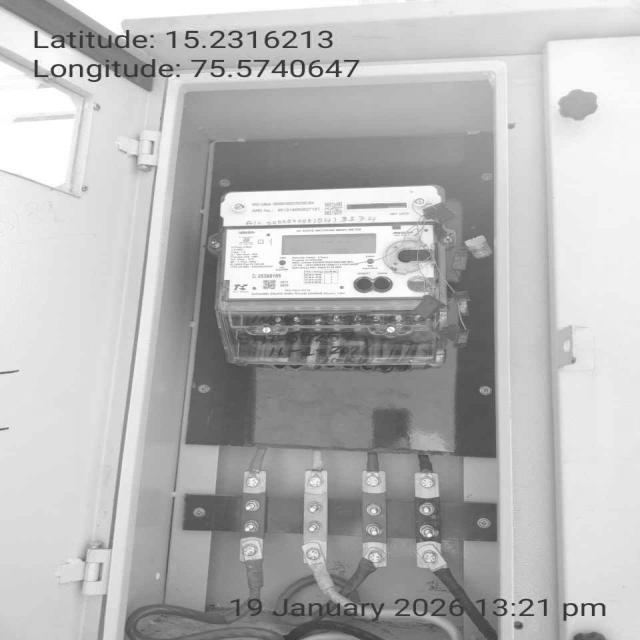meter: (218, 188, 440, 302)
